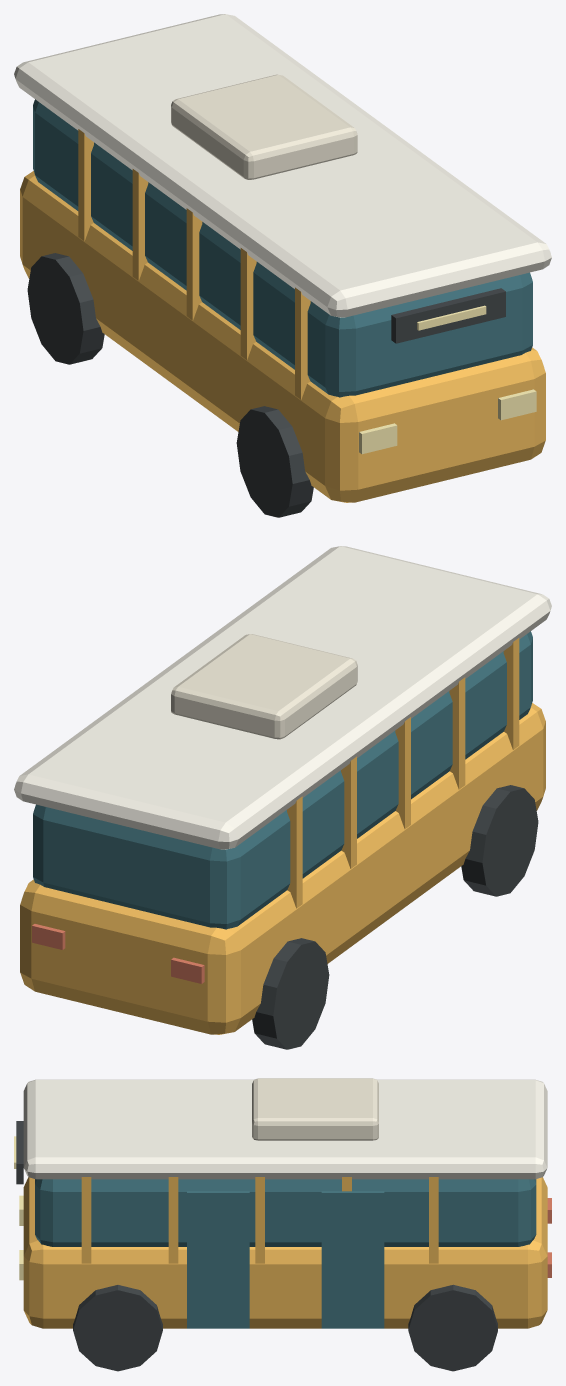
File: bus.glb
3 views of the same model, one above another, from view 1: azimuth 30°, elevation 25°; view 2: azimuth 150°, elevation 25°; view 3: azimuth 270°, elevation 25° (orthographic). The views are drawn at different scales.
Visible parts, largest first — view 1: bus.001; view 2: bus.001; view 3: bus.001.
Boxes of the visible parts, x1,y1,x2,y2 form: bus.001: [14, 14, 551, 517]; bus.001: [14, 546, 551, 1049]; bus.001: [14, 1078, 551, 1371].
Bounding box in the file's own units: 1.52 × 1.66 × 3.59.
